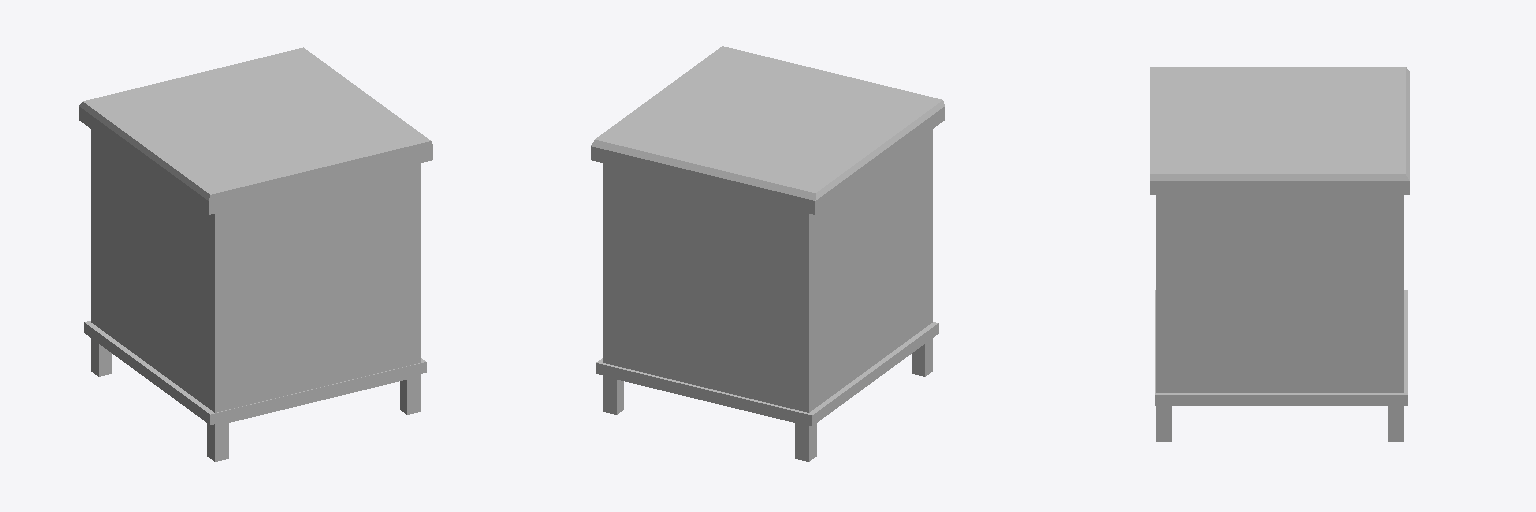
The model's file is bedside_table2.obj.
3 views of the same model, side by side, from view 1: azimuth 30°, elevation 25°; view 2: azimuth 150°, elevation 25°; view 3: azimuth 270°, elevation 25° (orthographic).
Parts seen in each view (by area): view 1: Cube.007_Cube.005; view 2: Cube.007_Cube.005; view 3: Cube.007_Cube.005.
Part boxes in pixels (x1,y1,x2,y2): Cube.007_Cube.005: (79,47,432,461); Cube.007_Cube.005: (591,46,944,461); Cube.007_Cube.005: (1150,67,1409,441).
Size of the model in its own units: 0.2678 by 0.3089 by 0.2678.